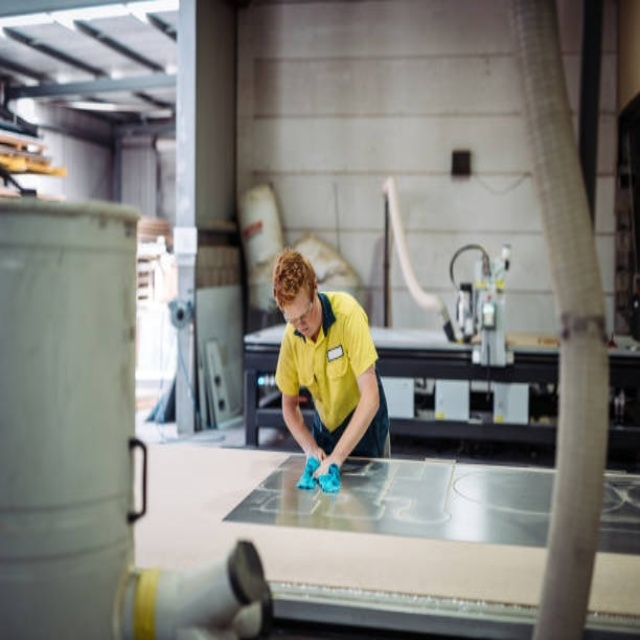Gafas: (283, 290, 314, 326)
